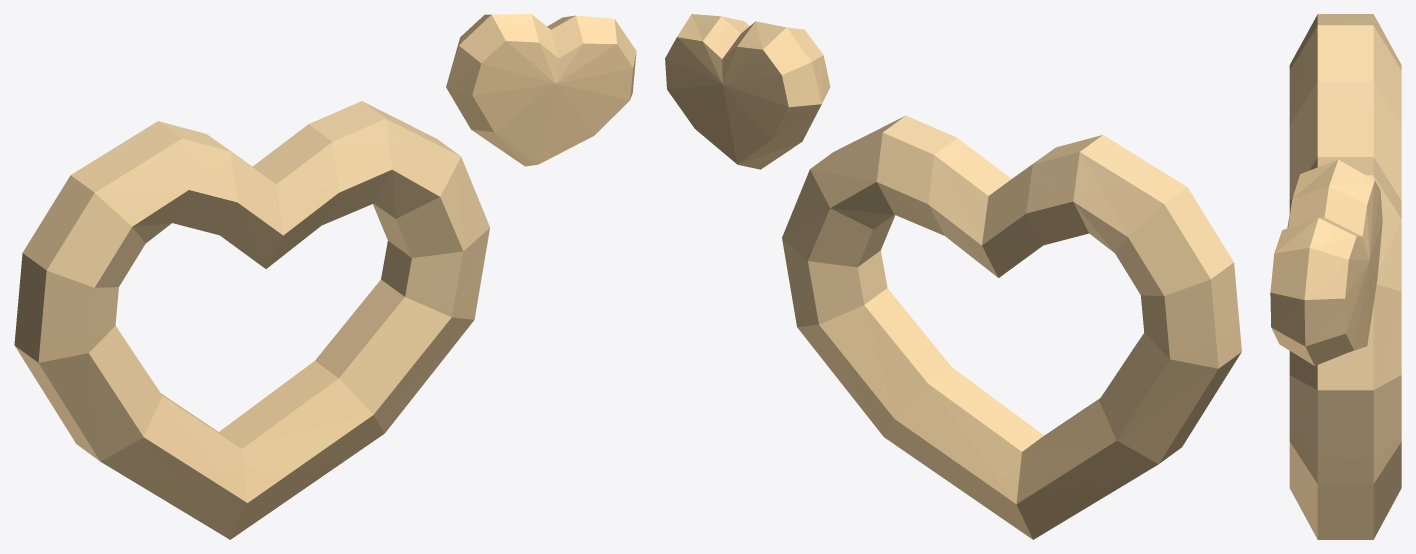
Rendered from CharSkyKid_Face_PersonalityFLove.glb.
3 views of the same model, side by side, from view 1: azimuth 30°, elevation 25°; view 2: azimuth 150°, elevation 25°; view 3: azimuth 270°, elevation 25° (orthographic). The views are drawn at different scales.
Parts seen in each view (by area): view 1: CharSkyKid_Face_PersonalityFLove; view 2: CharSkyKid_Face_PersonalityFLove; view 3: CharSkyKid_Face_PersonalityFLove.
Boxes of the visible parts, x1,y1,x2,y2 form: CharSkyKid_Face_PersonalityFLove: (14, 14, 636, 539); CharSkyKid_Face_PersonalityFLove: (665, 14, 1241, 539); CharSkyKid_Face_PersonalityFLove: (1270, 14, 1401, 539).
Size of the model in its own units: 1.31 by 0.9578 by 0.2163.
1 material, 1 textured.
